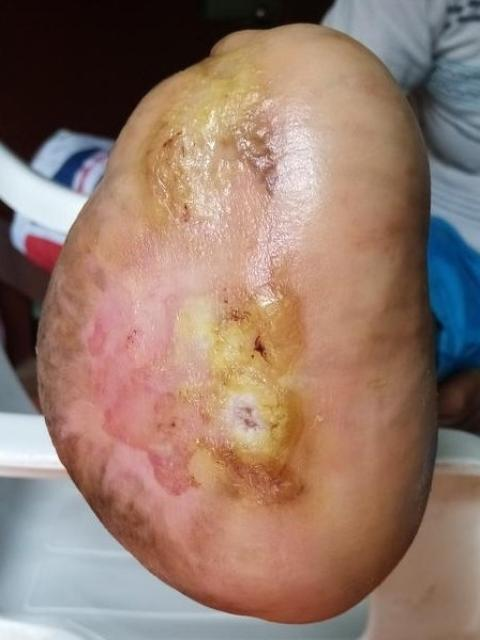wound: (82, 285, 309, 492)
